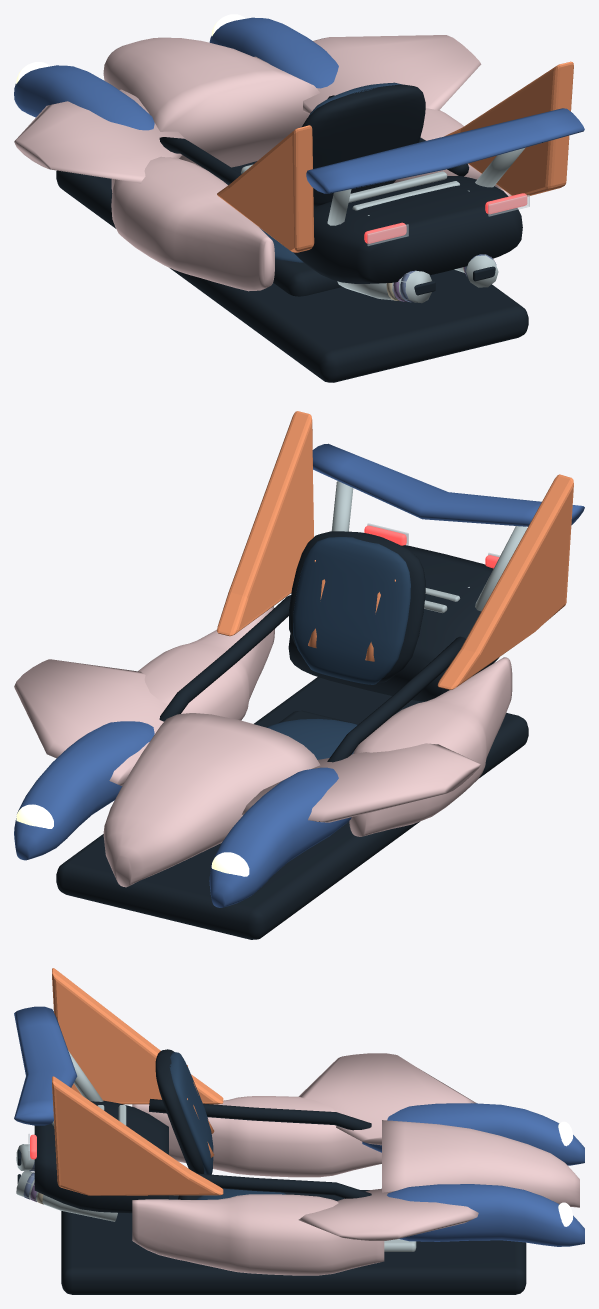
File: wolkenkurier.glb
3 views of the same model, one above another, from view 1: azimuth 30°, elevation 25°; view 2: azimuth 150°, elevation 25°; view 3: azimuth 270°, elevation 25° (orthographic). The views are drawn at different scales.
Parts seen in each view (by area): view 1: LOD0, ShowroomDetail; view 2: LOD0; view 3: LOD0.
Part boxes in pixels (bbox=[...]): LOD0: bbox=[14, 14, 584, 382]; ShowroomDetail: bbox=[367, 195, 529, 302]; LOD0: bbox=[14, 411, 584, 939]; LOD0: bbox=[14, 968, 584, 1294].
Size of what is drawn, in the model's own units: 1.72 by 1.04 by 2.33.
